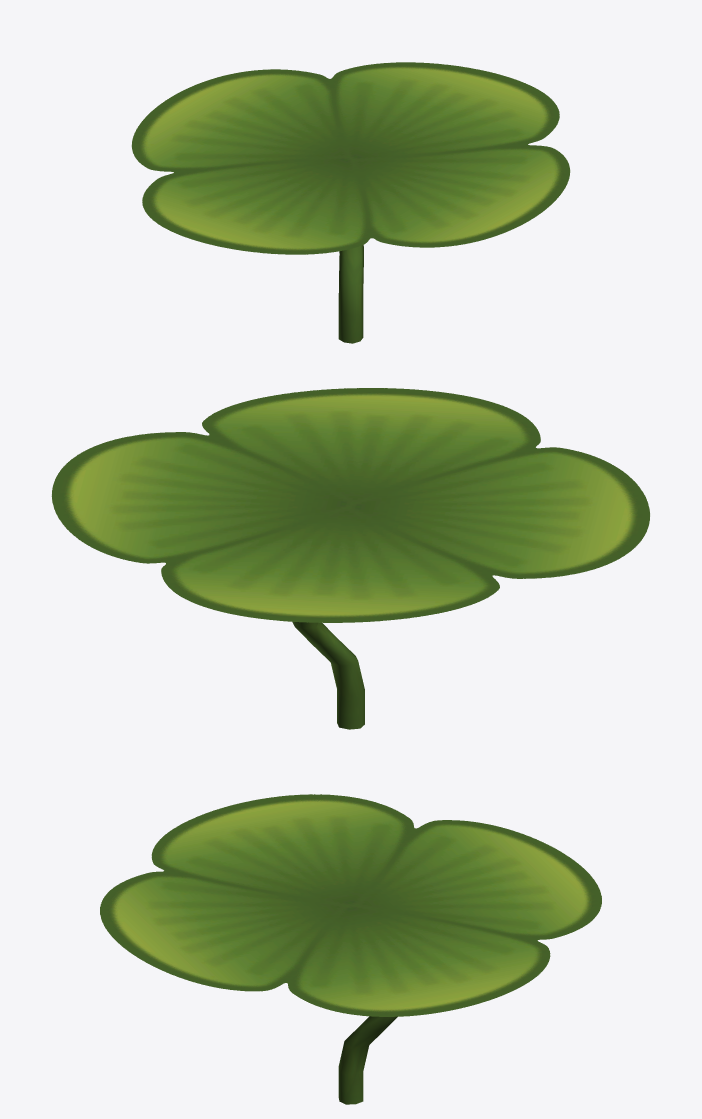
File: GiantLillyPadhand.fbx
3 views of the same model, one above another, from view 1: azimuth 30°, elevation 25°; view 2: azimuth 150°, elevation 25°; view 3: azimuth 270°, elevation 25° (orthographic). The views are drawn at different scales.
Visible parts, largest first — view 1: RoofTile, LillypadBase; view 2: RoofTile, LillypadBase; view 3: RoofTile, LillypadBase.
Part boxes in pixels (bbox=[...]): RoofTile: bbox=[131, 62, 570, 254]; LillypadBase: bbox=[338, 245, 363, 343]; RoofTile: bbox=[51, 388, 649, 622]; LillypadBase: bbox=[292, 621, 364, 729]; RoofTile: bbox=[100, 794, 601, 1016]; LillypadBase: bbox=[338, 1016, 397, 1104].
Size of the model in its own units: 2.23 by 0.6848 by 2.16.
